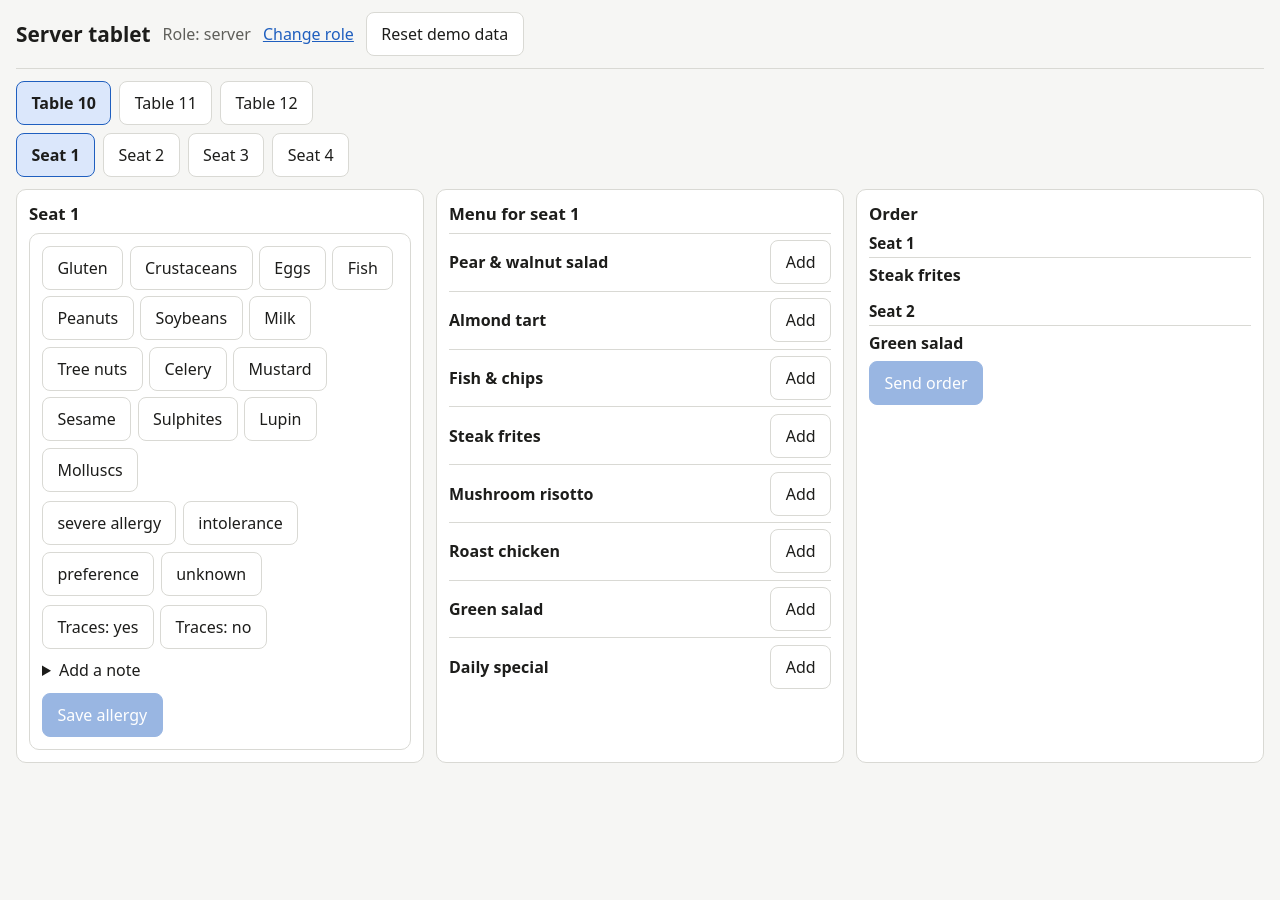
Test: US3 kitchen display › REQ-06: on /server "Send order" sends all drafts for the table
What coordinates should you click on to do the following:
click the button "Table 12"
I would click on:
 (267, 103)
Its box is top-left (220, 81), bottom-right (313, 125).
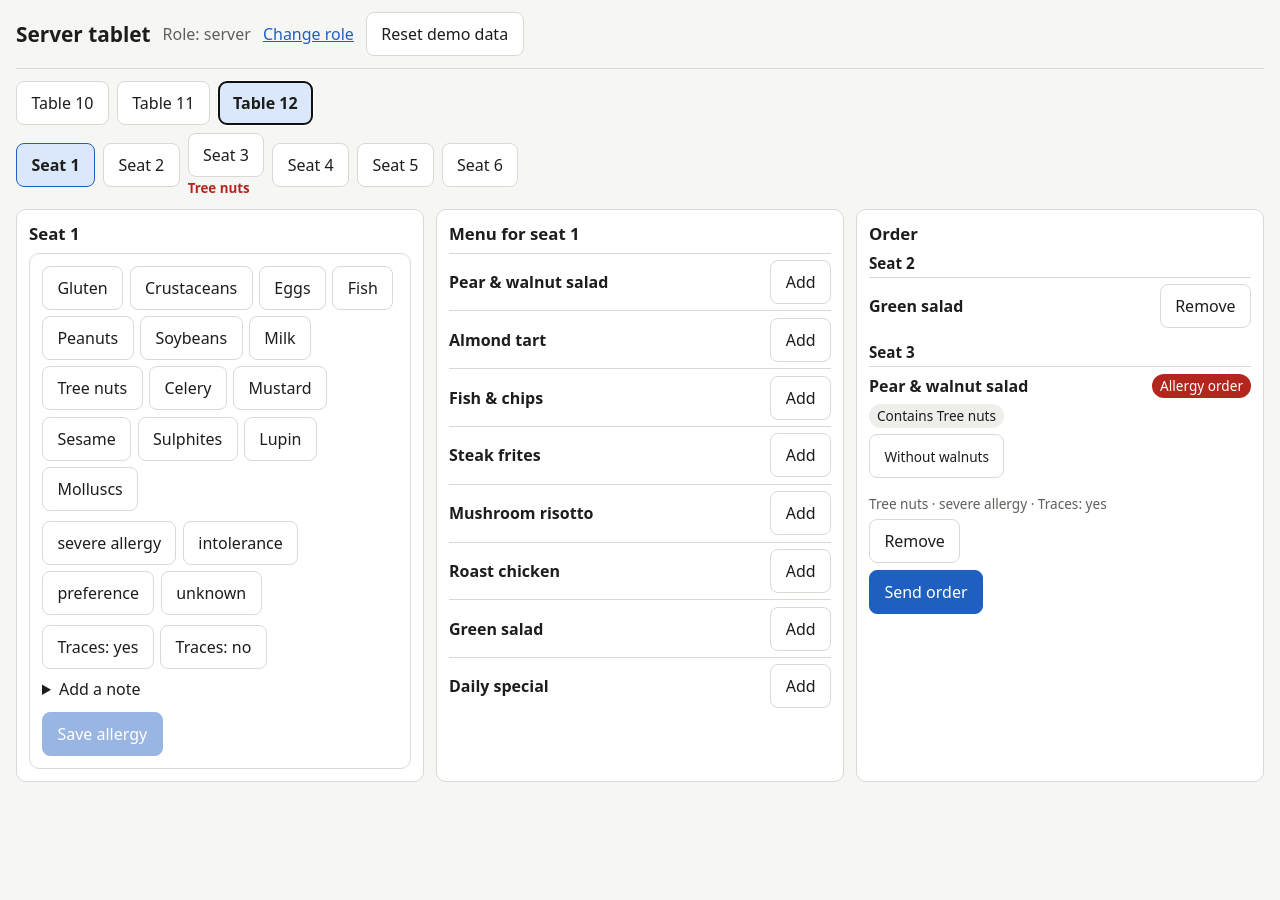
What coordinates should you click on to do the following:
click the button "Send order"
I would click on:
 (926, 592)
Its box is top-left (869, 570), bottom-right (983, 614).
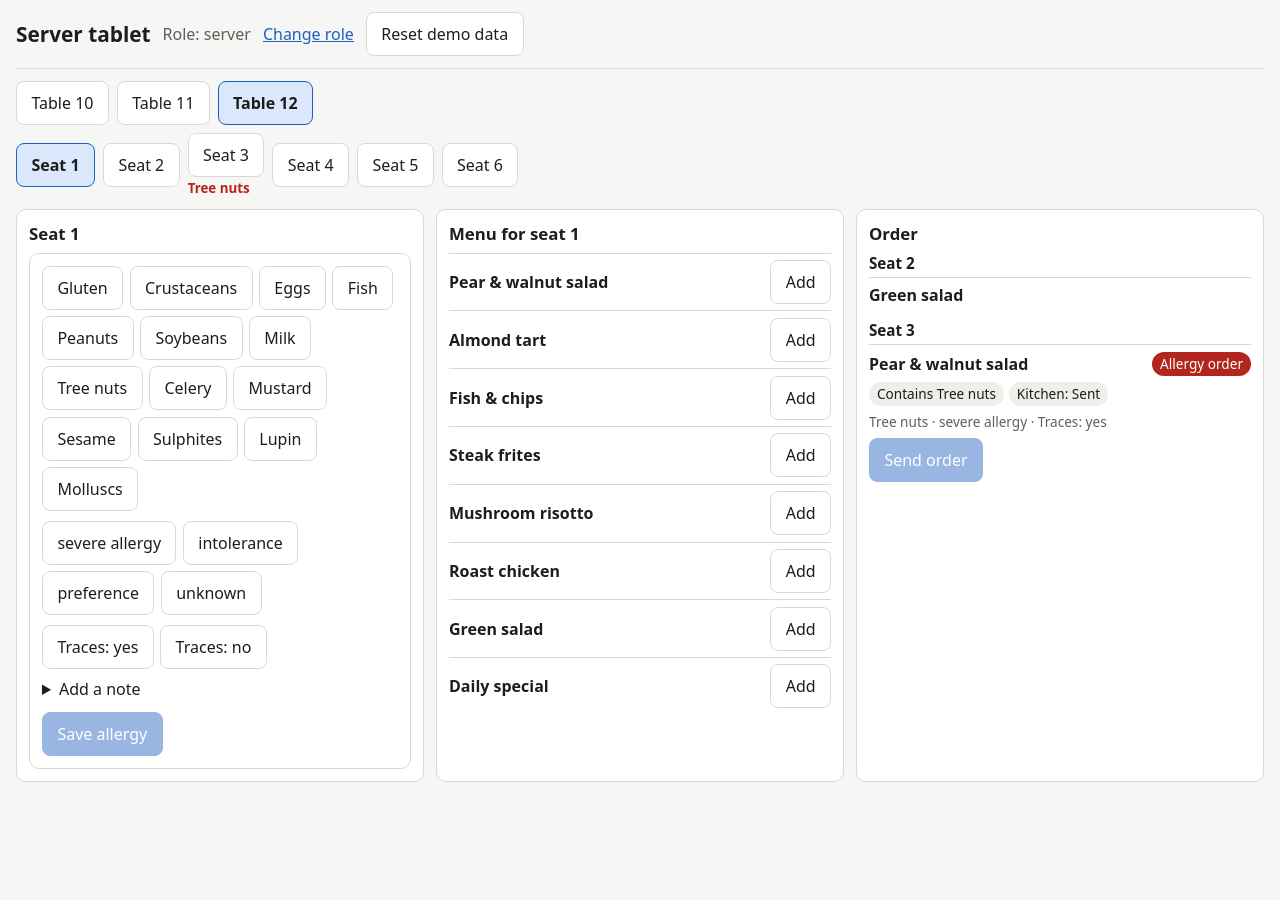
Expected: the button "Remove " is gone
